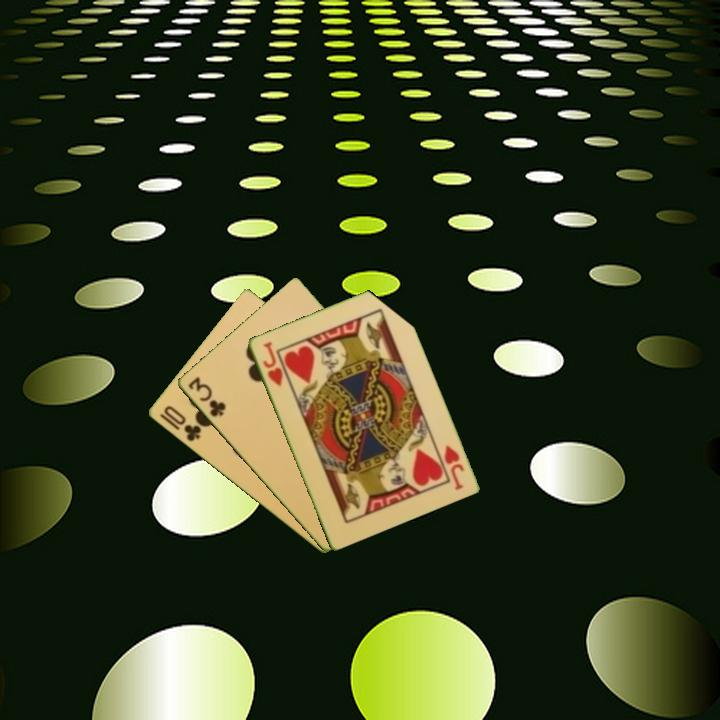10c: (160, 402, 204, 445)
3c: (184, 373, 229, 420)
Jh: (259, 337, 286, 389), (440, 441, 467, 493)
